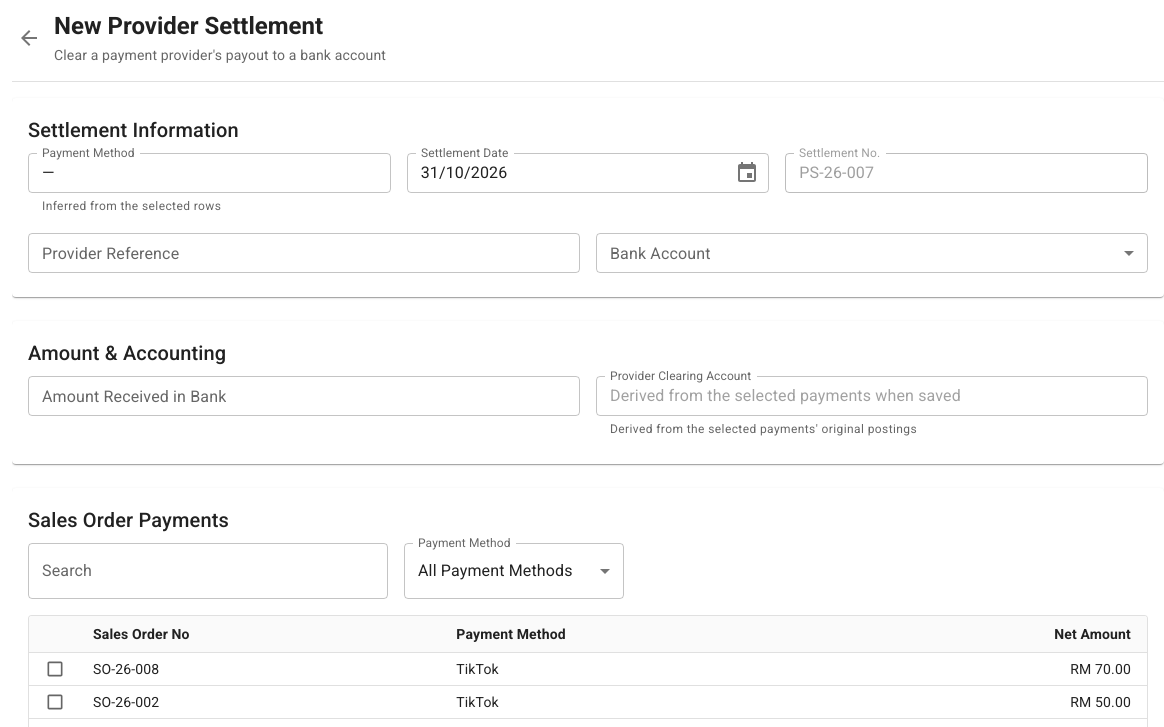
Scenario: ProviderSettlementFormPage destination bank eligibility (#1285) › does not offer a provider clearing account as the destination bank
Step 1. Click the dropdown named "Bank Account" → (872, 253), box [596,233,1148,273]
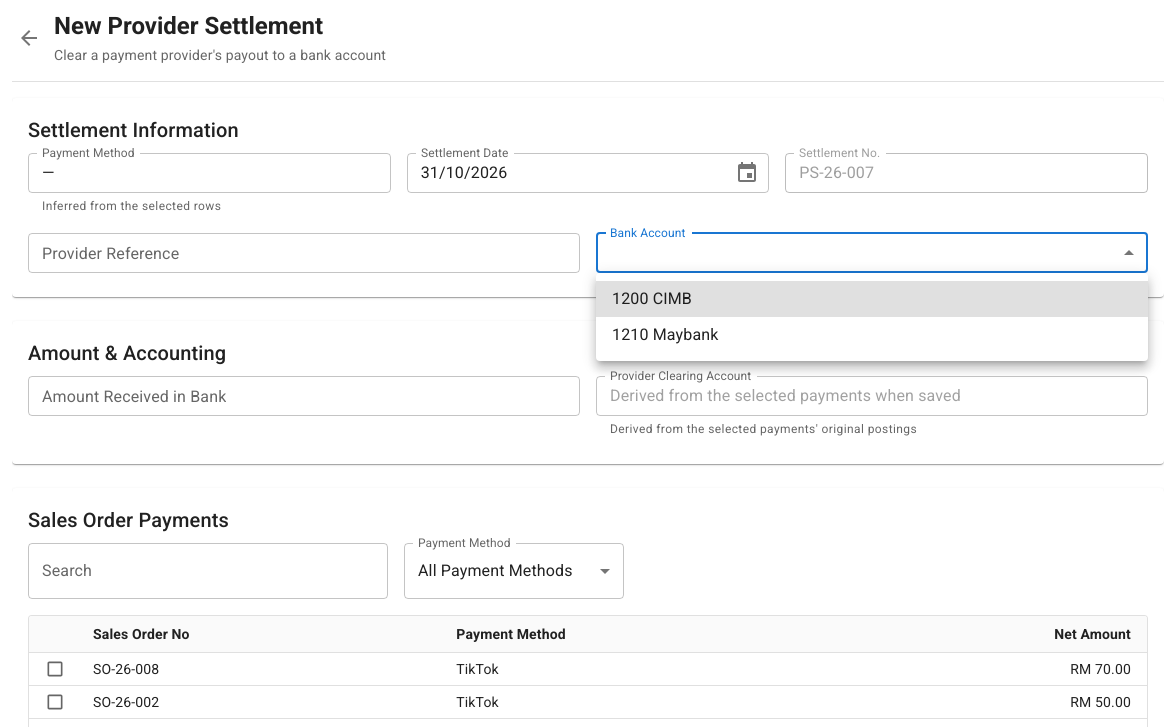
Expected: the option "1200 CIMB" is shown, [596,281,1148,317]
